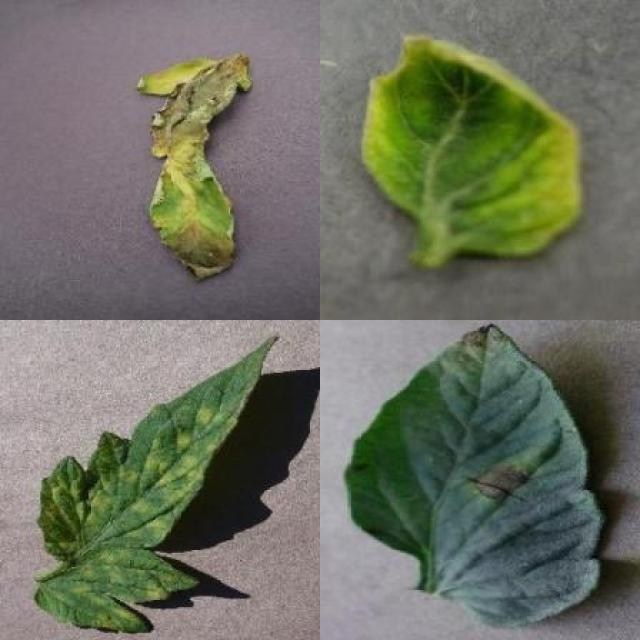Early Blight: (345, 325, 601, 628)
Late Blight: (135, 52, 252, 282)
Leaf Mold: (34, 338, 279, 633)
Yellow Leaf Curl Virus: (359, 33, 582, 257)
